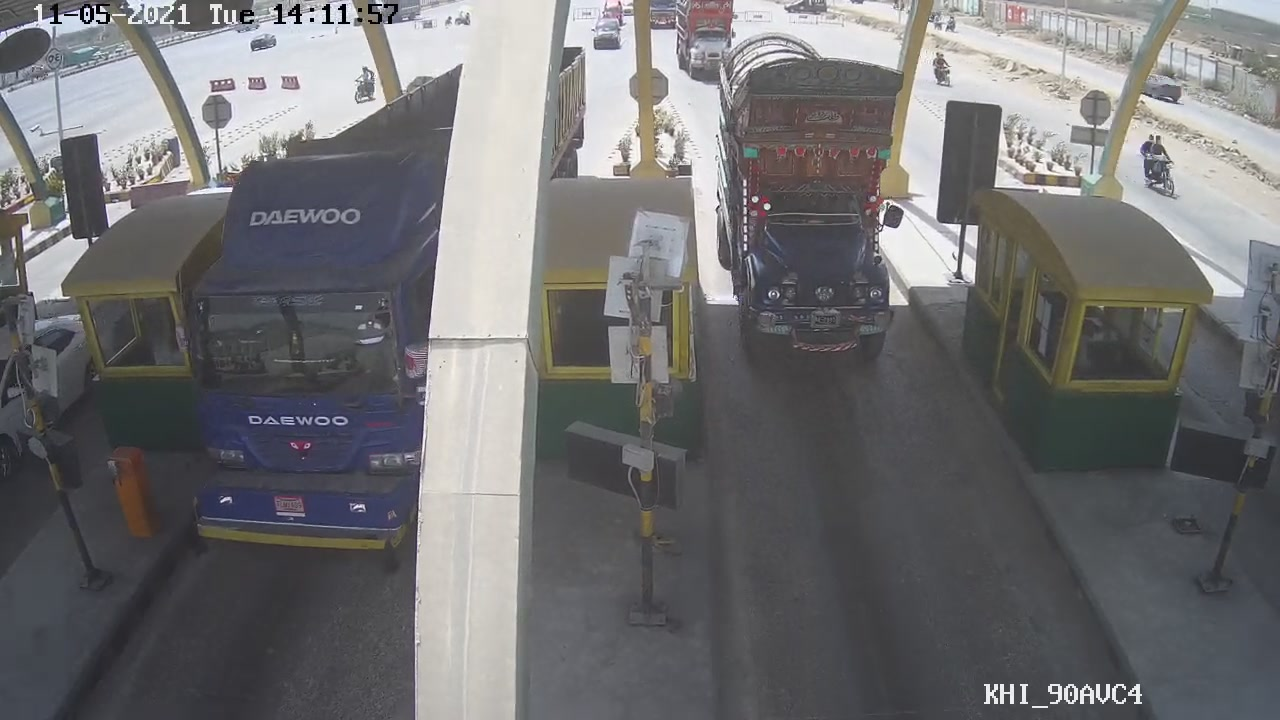F5: (701, 33, 907, 378)
